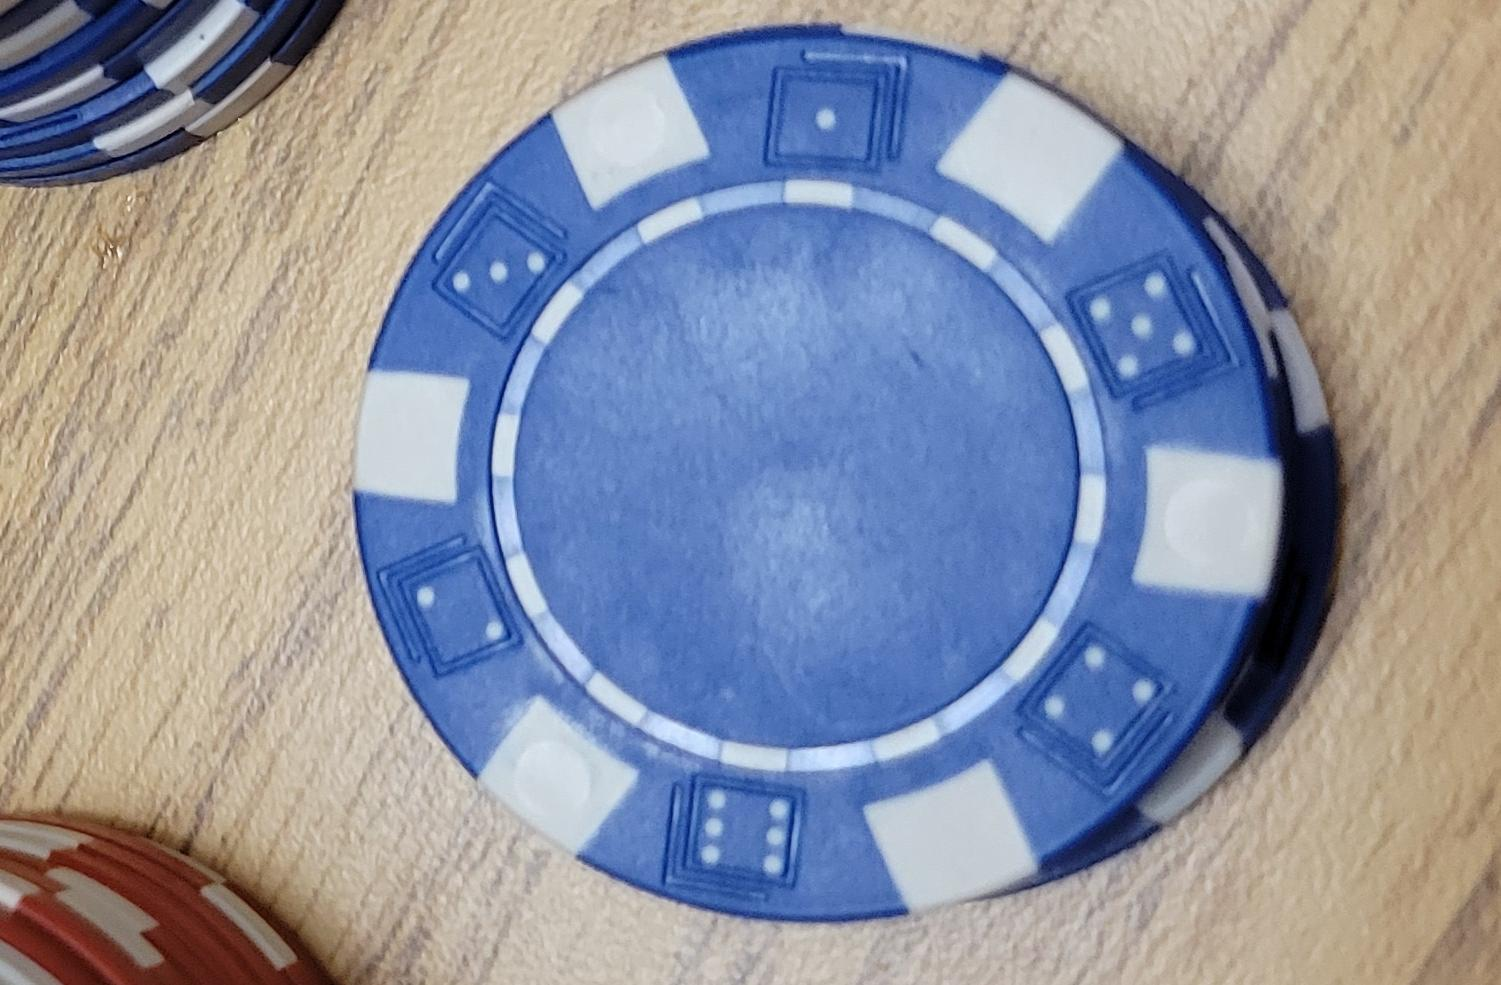Chip: (1, 362, 568, 985)
